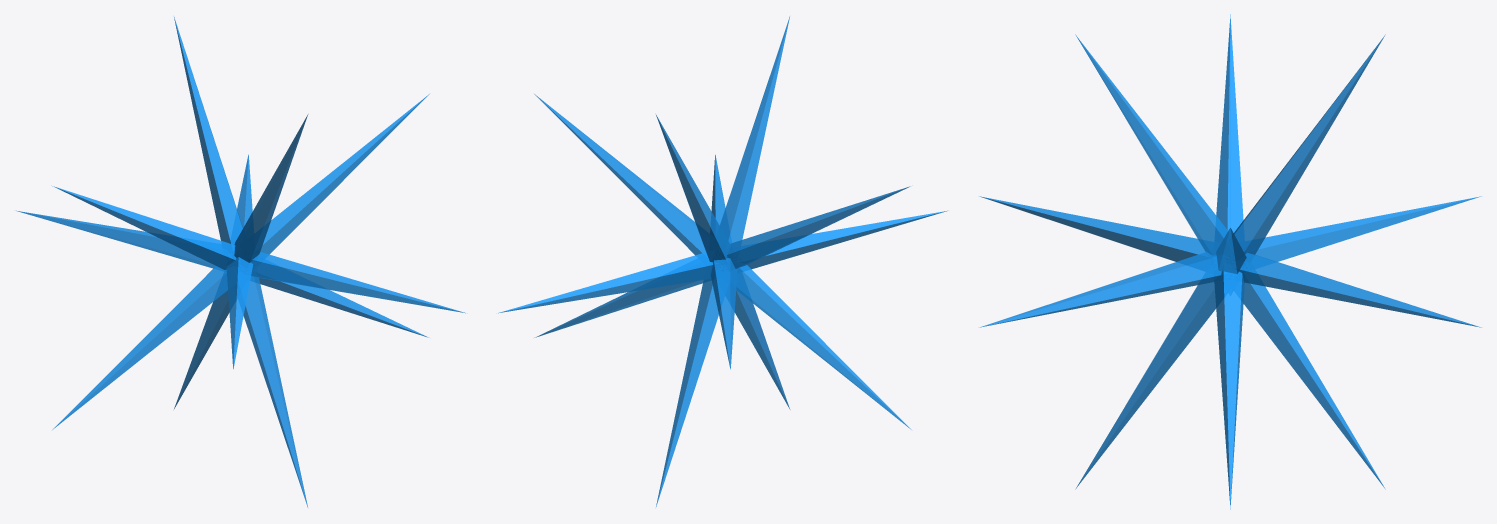
Rendered from fractalmedialinvertedpentagonalhexecontahedron0.glb.
3 views of the same model, side by side, from view 1: azimuth 30°, elevation 25°; view 2: azimuth 150°, elevation 25°; view 3: azimuth 270°, elevation 25° (orthographic). The views are drawn at different scales.
Bounding box in the file's own units: 11.07 × 11.07 × 11.07.
